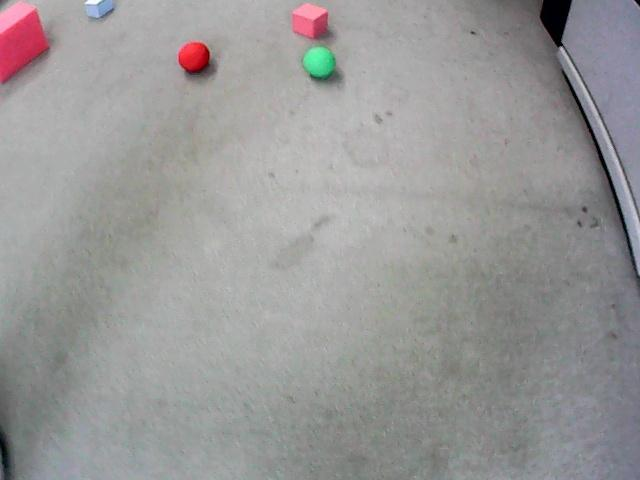blue_block: (85, 0, 113, 17)
red_block: (0, 2, 48, 82), (292, 4, 327, 38)
